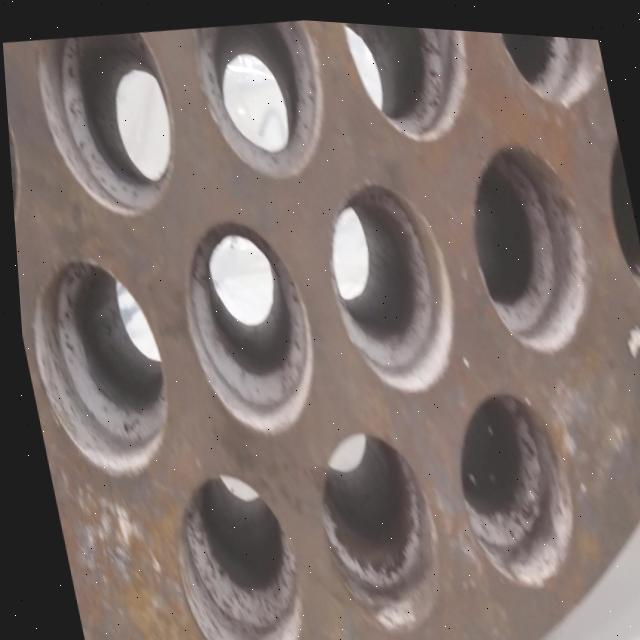Hole: (13, 243, 179, 486), (162, 202, 326, 441), (308, 162, 468, 398), (450, 123, 601, 353), (297, 413, 448, 637), (27, 22, 190, 226), (432, 374, 582, 590), (148, 455, 307, 640), (186, 10, 339, 187), (340, 18, 484, 147), (491, 26, 611, 109), (2, 43, 32, 252)
